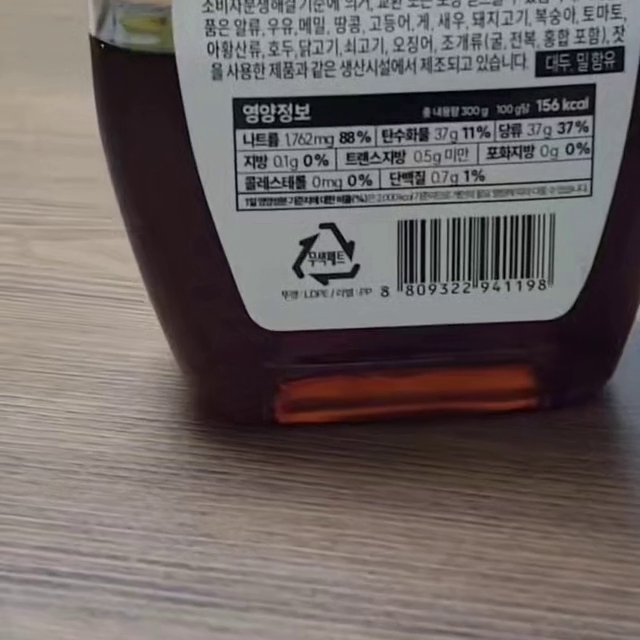ColorlessPet: (293, 222, 362, 286)
